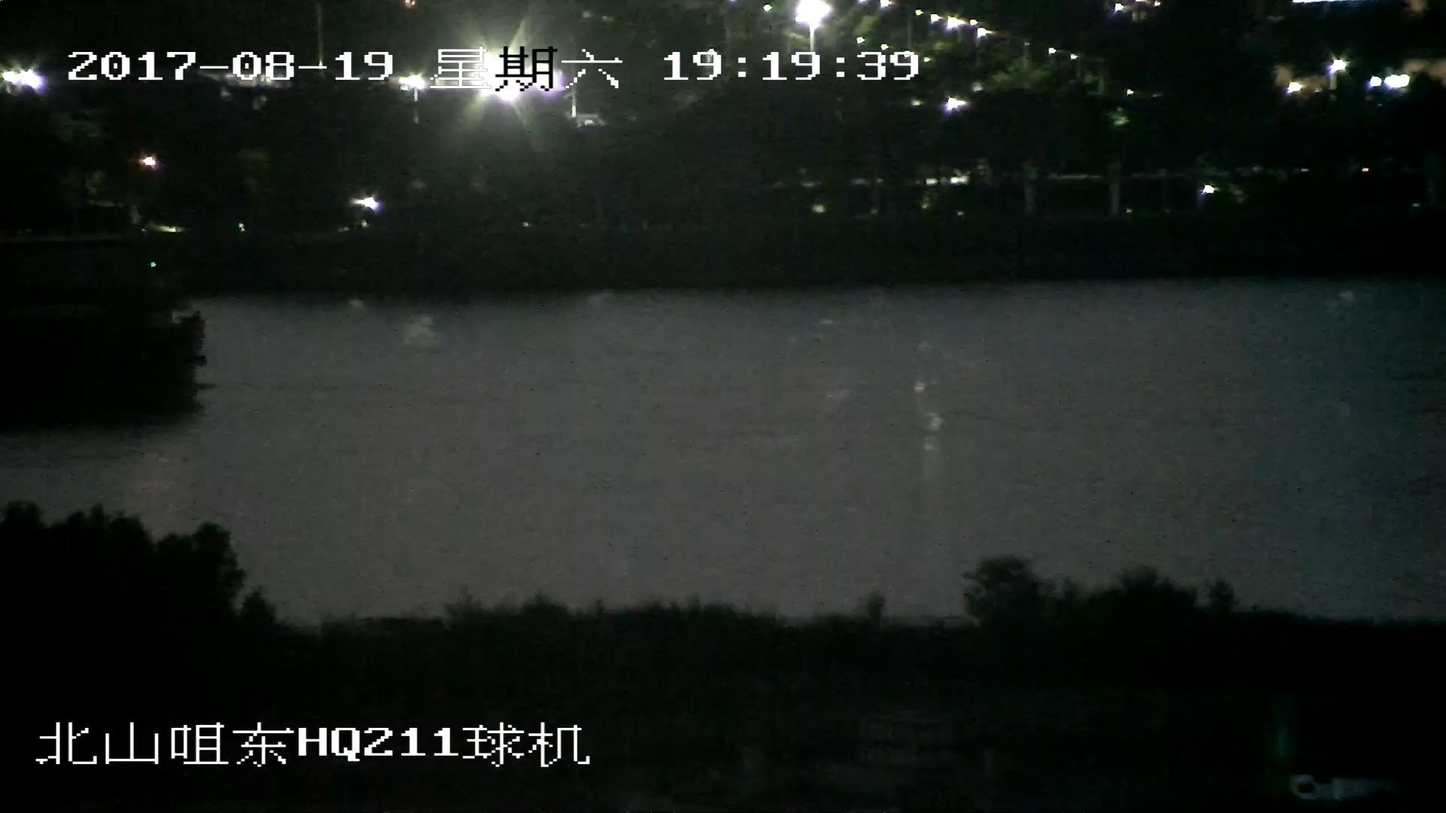container ship: (0, 254, 211, 422)
